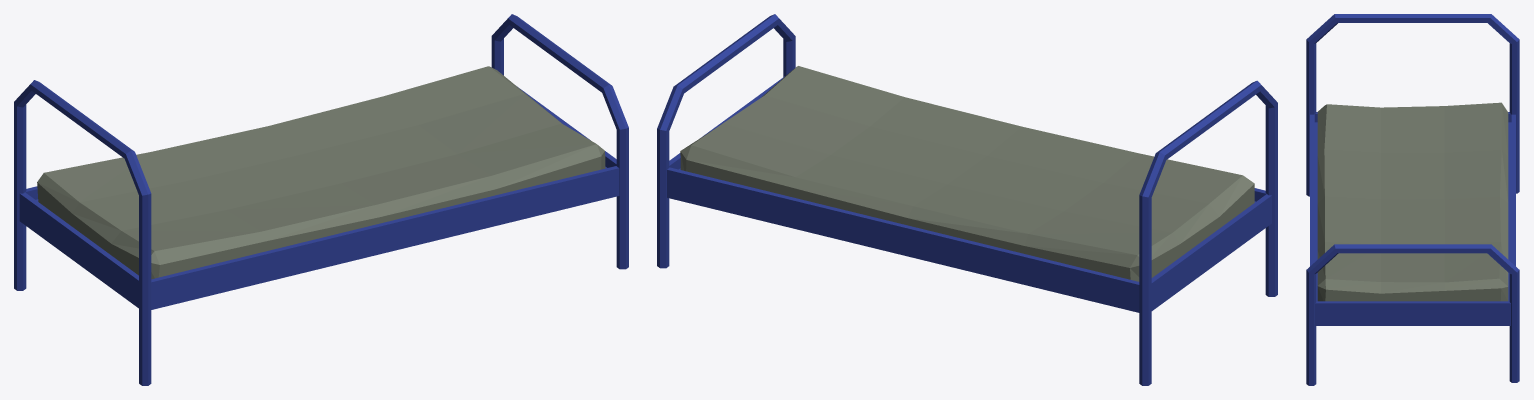
File: Bed_01.fbx
3 renders of one model, left to right at view 1: azimuth 30°, elevation 25°; view 2: azimuth 150°, elevation 25°; view 3: azimuth 270°, elevation 25°, orthographic. The views are drawn at different scales.
Visible parts, largest first — view 1: Bed_01; view 2: Bed_01; view 3: Bed_01.
Boxes of the visible parts, box(x1,y1,x2,y2) form: Bed_01: box(14, 14, 628, 385); Bed_01: box(657, 14, 1277, 385); Bed_01: box(1306, 14, 1519, 385).
Size of the model in its own units: 183 by 80.2 by 85.66.
1 material, 1 textured.
